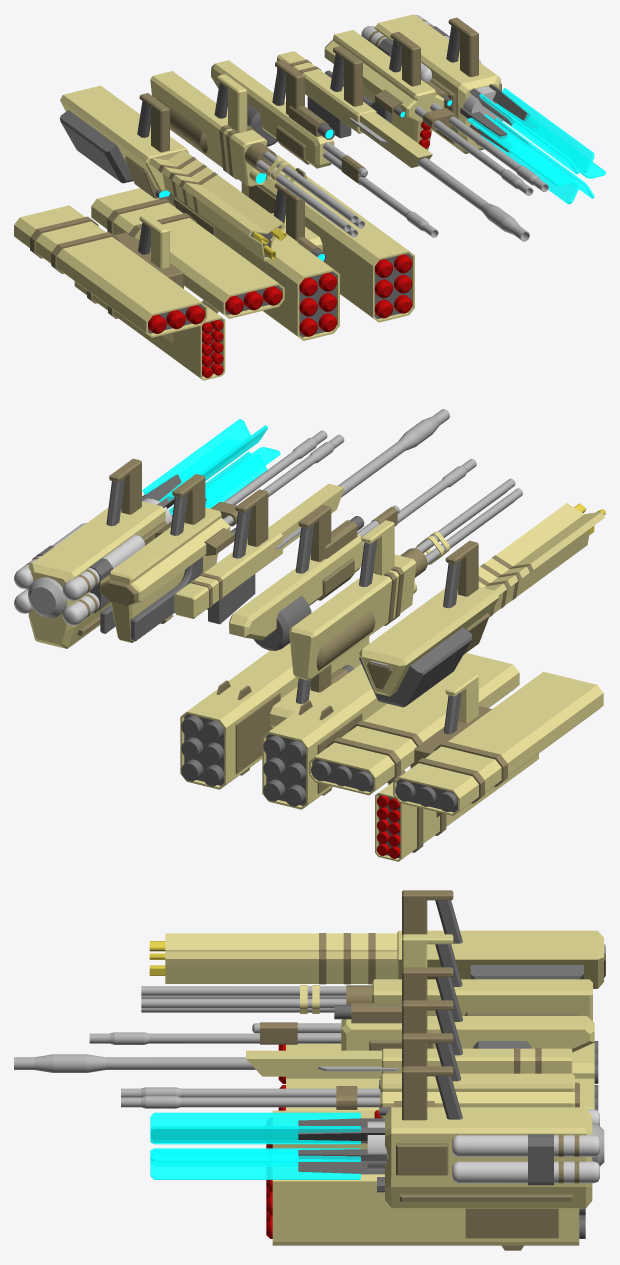
The model's file is MainUnderWeapons.fbx.
3 renders of one model, top to bottom at view 1: azimuth 30°, elevation 25°; view 2: azimuth 150°, elevation 25°; view 3: azimuth 270°, elevation 25°, orthographic. The views are drawn at different scales.
Visible parts, largest first — view 1: pCube217, pCube188, pCube202, pCube62, pCylinder36, pCube223, pCube70, pCube177, pCube79, pCube214, pCube205 (×3), pCube73 (+26 smaller); view 2: pCube217, pCube188, pCube62, pCube177, pCube202, pCube70, pCube214, pCylinder36, pCube223, pCube79, pCube73, pCube224 (×2) (+32 smaller); view 3: pCube202, pCylinder36, pCube214, pCube224 (×3), pCube62, pCube79, pCube73, pCube70, pCube177, pCylinder44, pCube205, pCube222 (+38 smaller).
Boxes of the visible parts, x1,y1,x2,y2 form: pCube217: (14, 205, 207, 337); pCube188: (91, 188, 284, 318); pCube202: (241, 155, 414, 322); pCube62: (60, 85, 188, 191); pCylinder36: (149, 150, 285, 261); pCube223: (166, 195, 339, 340); pCube70: (150, 71, 267, 187); pCube177: (324, 30, 444, 150); pCube79: (277, 51, 432, 167); pCube214: (374, 14, 500, 153); pCube205 (×3): (467, 114, 594, 204); pCube73: (211, 60, 334, 168); pCube217: (393, 671, 603, 815); pCube188: (309, 653, 519, 795); pCube62: (359, 587, 499, 707); pCube177: (100, 507, 230, 642); pCube202: (180, 636, 369, 789); pCube70: (289, 554, 416, 680); pCube214: (28, 501, 165, 648); pCylinder36: (478, 503, 604, 616); pCube223: (262, 664, 386, 809); pCube79: (174, 483, 344, 618); pCube73: (229, 534, 363, 640); pCube224 (×2): (142, 419, 267, 508); pCube202: (272, 1174, 579, 1245); pCylinder36: (165, 933, 397, 984); pCube214: (385, 1107, 592, 1208); pCube224 (×3): (150, 1112, 360, 1161); pCube62: (397, 930, 603, 988); pCube79: (246, 1048, 572, 1076); pCube73: (341, 1016, 594, 1052); pCube70: (372, 979, 592, 1020); pCube177: (380, 1073, 579, 1118); pCylinder44: (14, 1054, 255, 1072); pCube205: (150, 1159, 360, 1179); pCube222: (465, 1208, 558, 1238).
Bounding box in the file's own units: 21.29 × 11.7 × 22.75.
